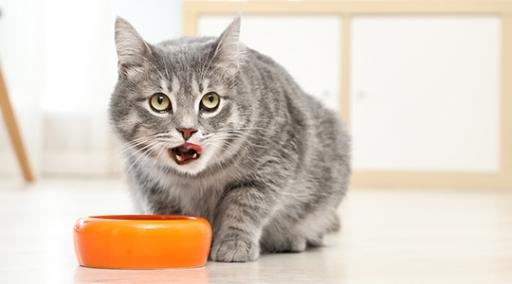cat_eating: (74, 17, 351, 268)
